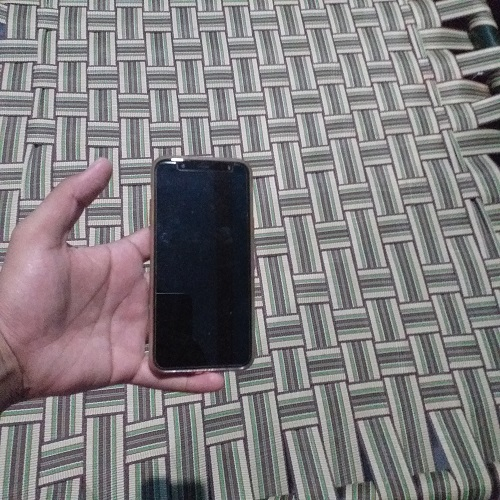mobile: (144, 145, 264, 376)
